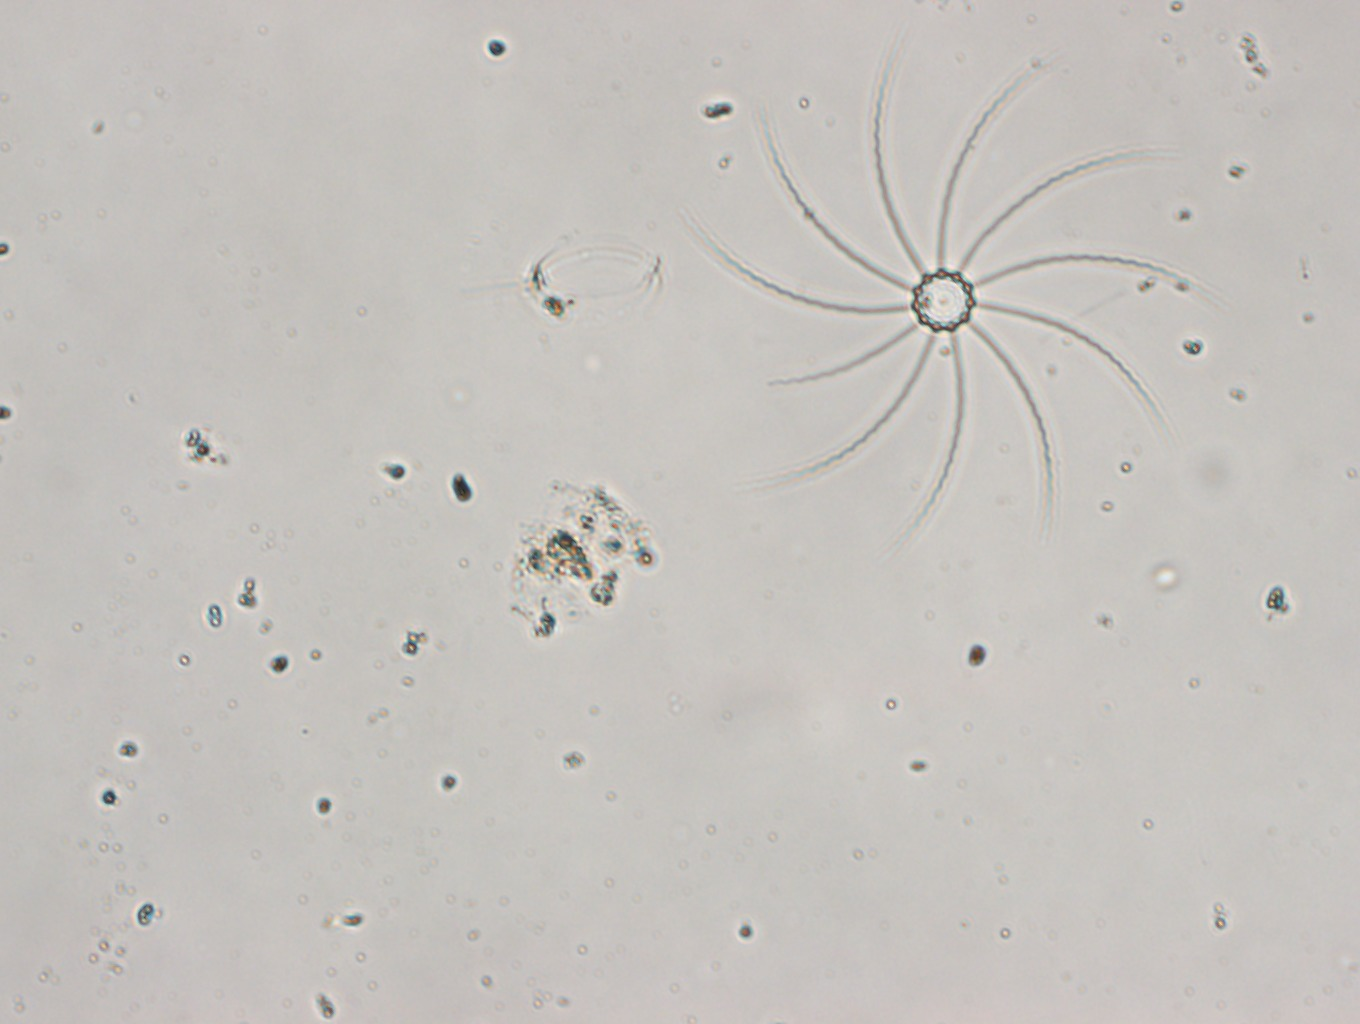bacteriastrum: (677, 34, 1216, 551)
chaetoceros: (460, 234, 672, 327)
